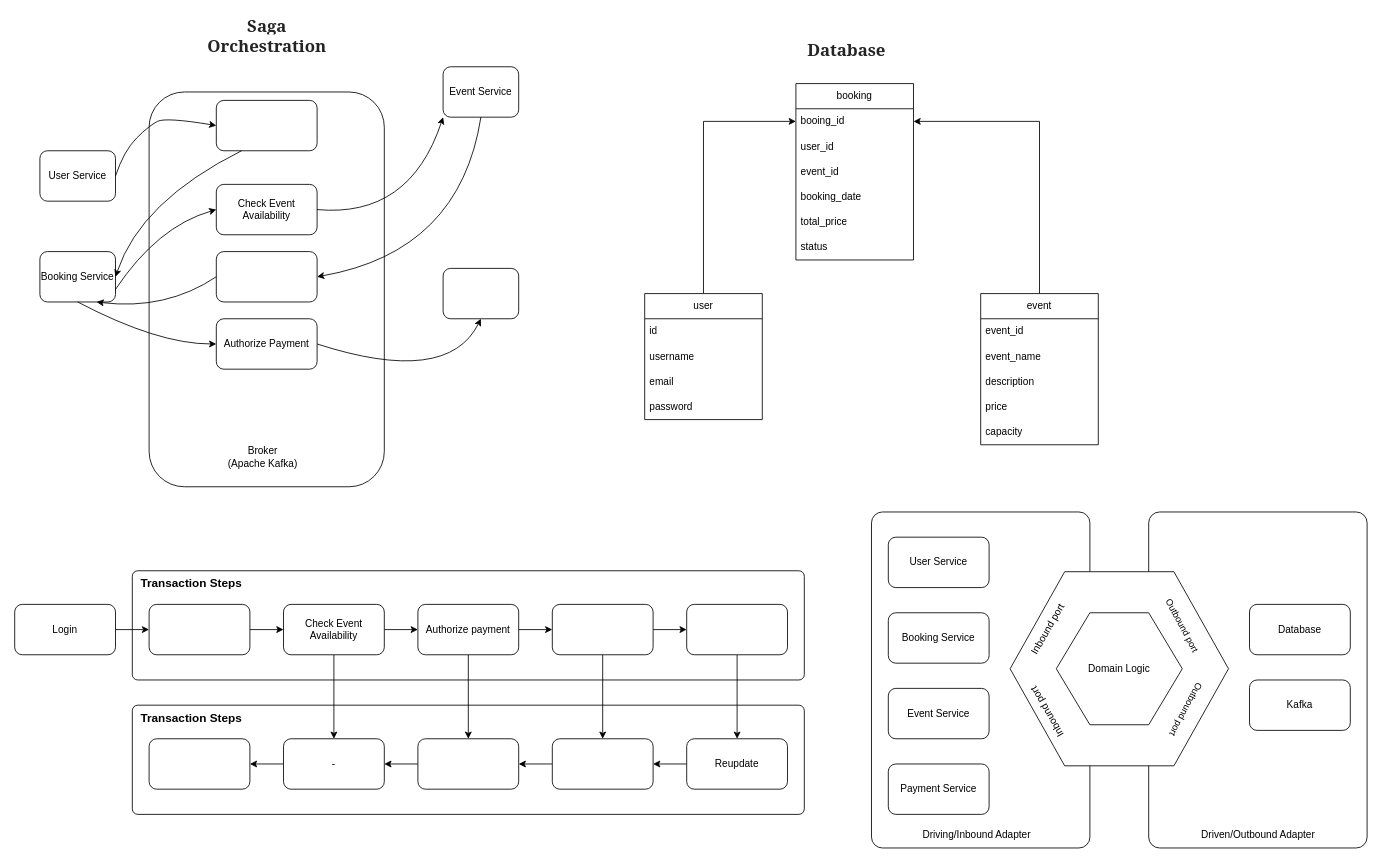
The diagram is 1382 pixels wide and 863 high, and some of its shapes have lost their labels. Each missing label, with the centre of its shape:
"Cancel Booking" belongs at [602,763].
"Cancel Order" belongs at [199,763].
"Confirm Booking" belongs at [602,629].
"Payment" belongs at [480,293].
"Refund" belongs at [468,763].
"Register" belongs at [266,125].
"Set Booking" belongs at [199,629].
"Update Event" belongs at [737,629].
"Update Event Schedule" belongs at [266,276].
